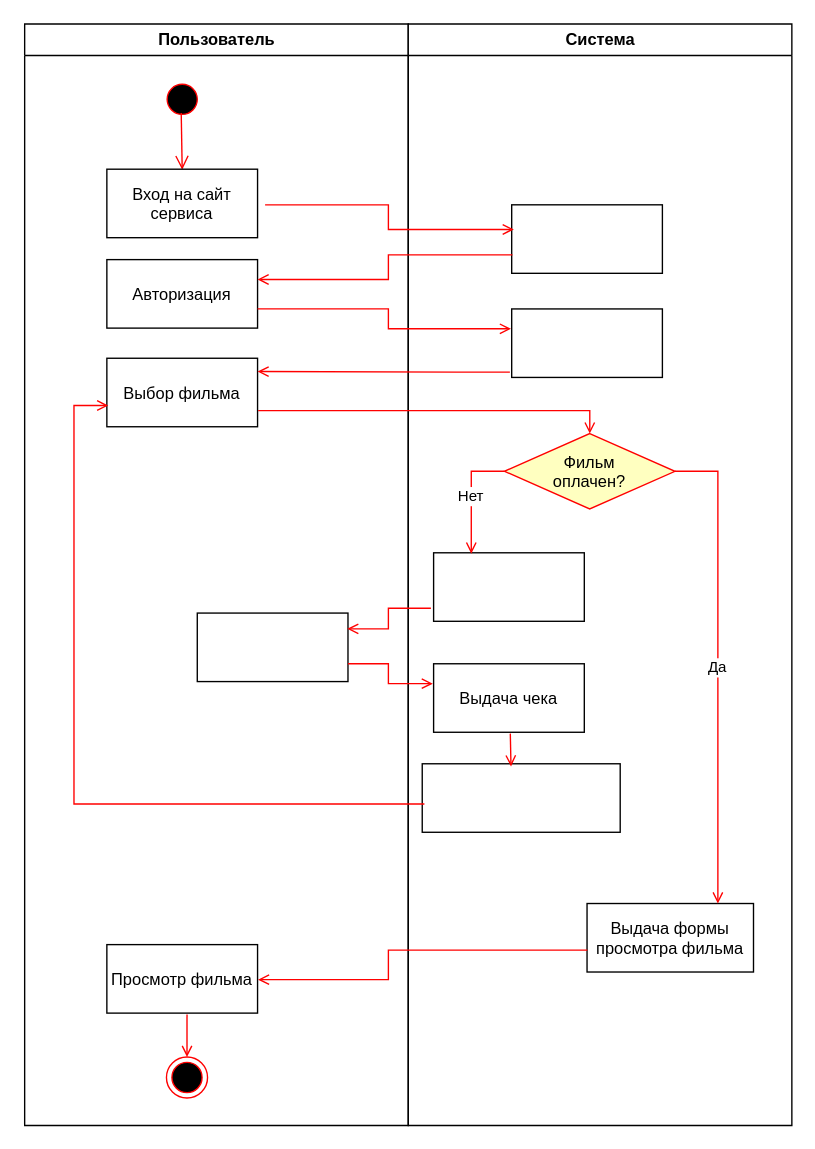
The diagram is 815 pixels wide and 1149 high, and some of its shapes have lost their labels. The shapes that lost their labels are listed below. From the top down, each one's centre as x and y in pixels, then its label:
At point 586,238: "Запрос на авторизацию".
At point 586,342: "Выдача формы выбора фильма".
At point 508,586: "Выдача формы выбора оплаты фильма".
At point 272,647: "Оплата фильма".
At point 520,797: "Добавление фильма в каталог пользователя".
